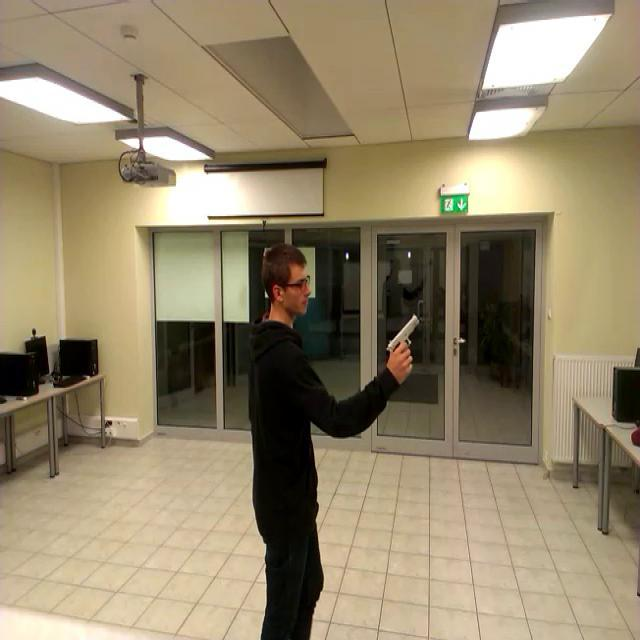Gun: (385, 313, 419, 366)
